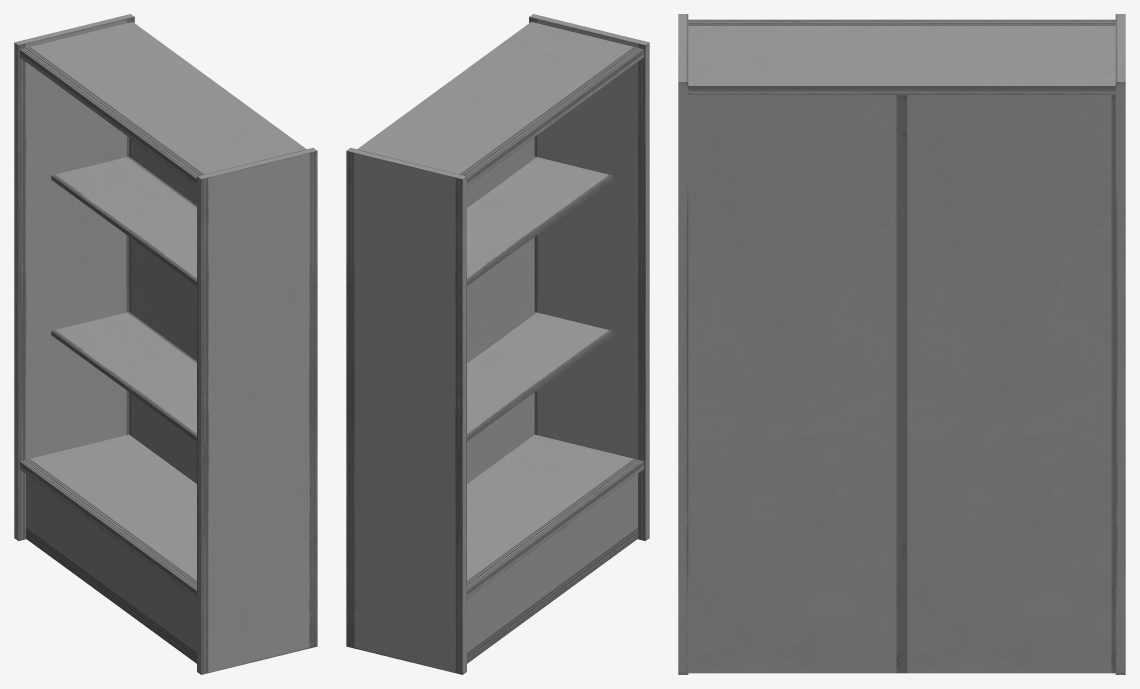
Rendered from HH_Document_Cabinet_Big.fbx.
3 renders of one model, left to right at view 1: azimuth 30°, elevation 25°; view 2: azimuth 150°, elevation 25°; view 3: azimuth 270°, elevation 25°, orthographic. The views are drawn at different scales.
Parts seen in each view (by area): view 1: HH_Document_Cabinet_Big; view 2: HH_Document_Cabinet_Big; view 3: HH_Document_Cabinet_Big.
Boxes of the visible parts, x1,y1,x2,y2 form: HH_Document_Cabinet_Big: (14,14,317,674); HH_Document_Cabinet_Big: (346,14,649,674); HH_Document_Cabinet_Big: (678,14,1125,674).
Size of the model in its own units: 55.2 by 225 by 154.
